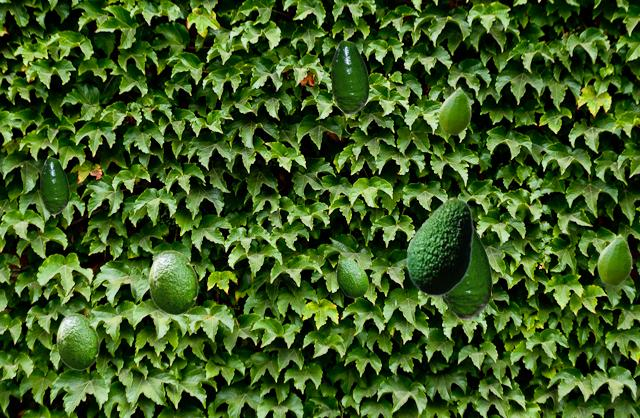avocado: (406, 197, 472, 295), (443, 225, 491, 318), (148, 250, 197, 314), (331, 40, 368, 113), (56, 313, 98, 369), (597, 233, 631, 285), (40, 157, 68, 213), (438, 86, 470, 134), (336, 258, 367, 297)
